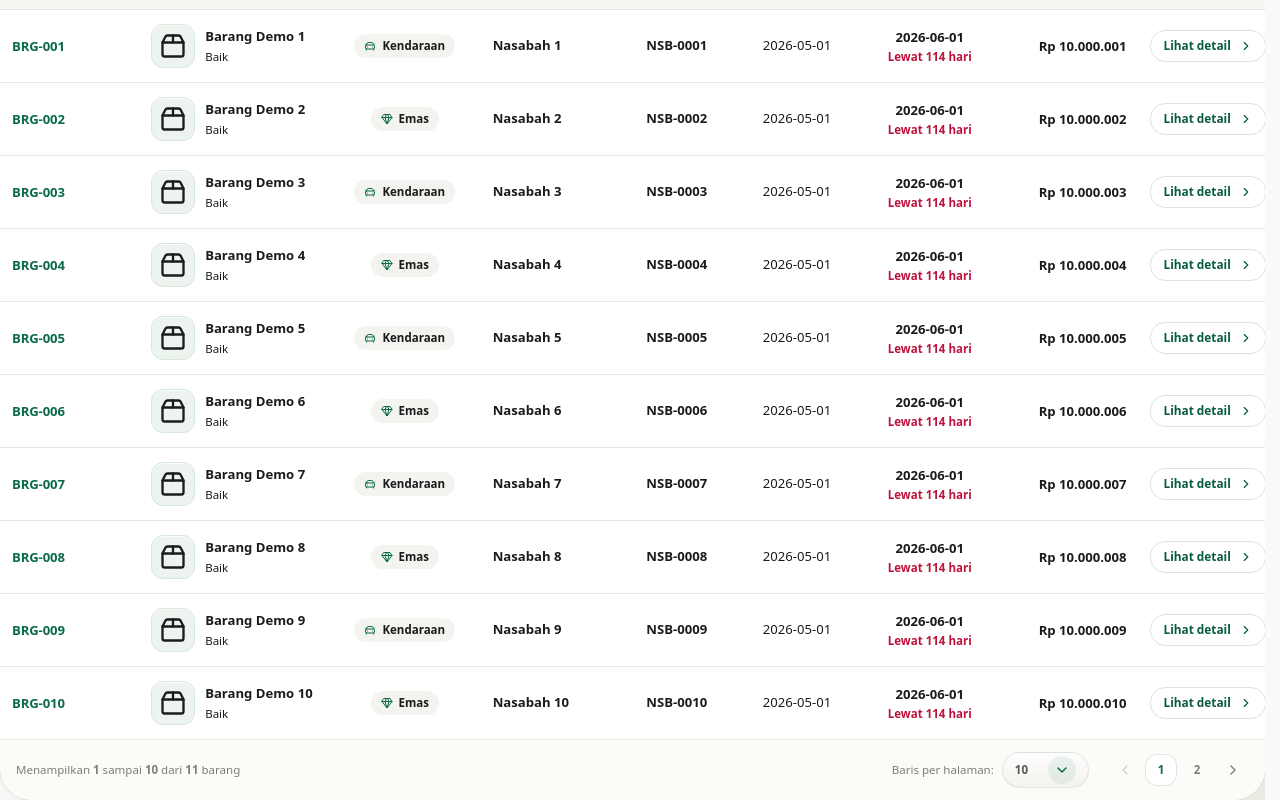
AdminInventoryWorkspace › paginates inventory rows without rendering every item at once
(page scrolled)
Expected: the link "BRG-001" is shown, [12,37,65,55]
Expected: the text "BRG-011" is not shown
Click the button "2": [1197, 770] box [1181,754,1213,786]
(page scrolled)
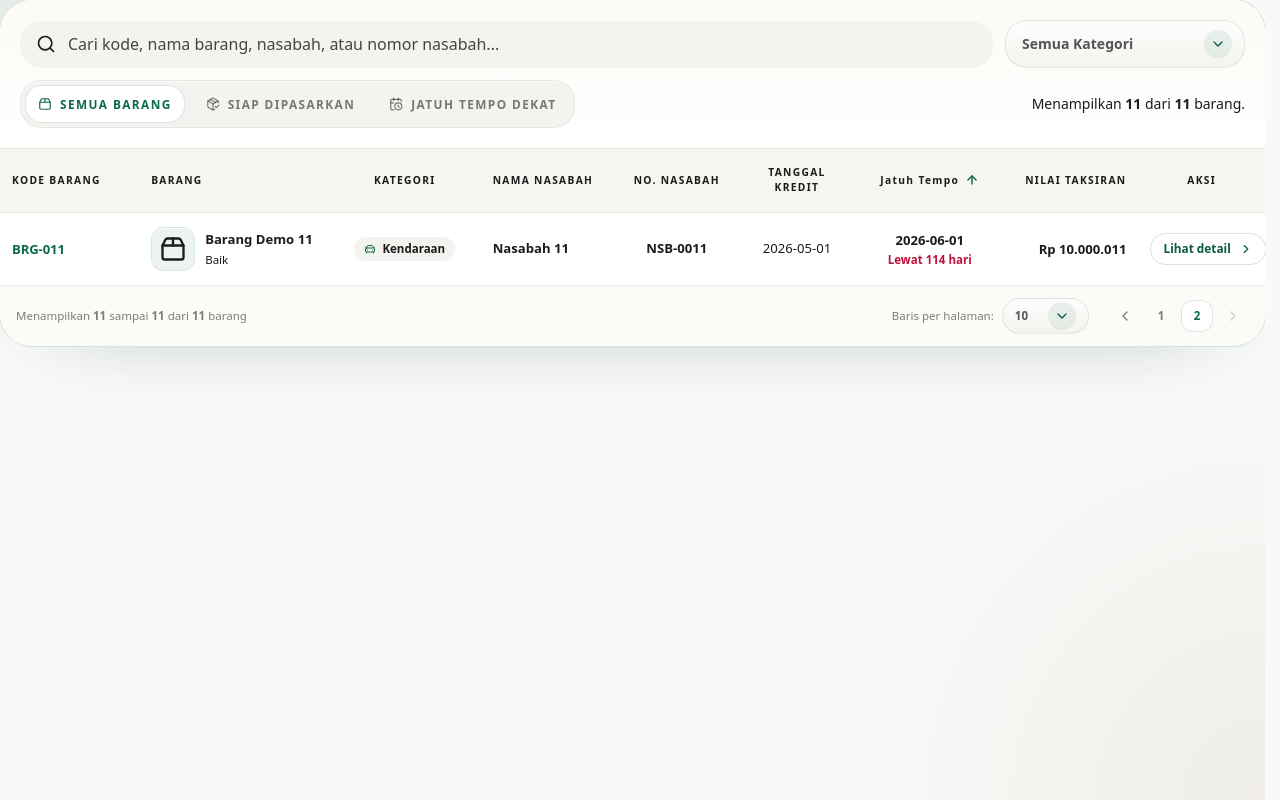
Now the link "BRG-011" is shown, box [12,240,65,258]
